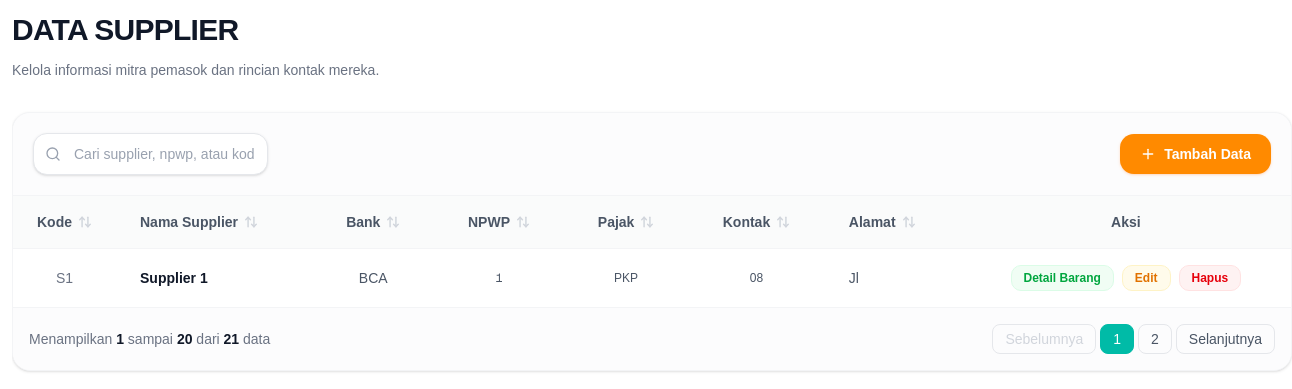
Test case: purchasing DataSupplier › steps back a page when the last row of the last page is deleted
Check: the text "Supplier 1" is shown, box [116,248,313,307]
Click the button "2" at (1155, 339), box [1138,324,1172,354]
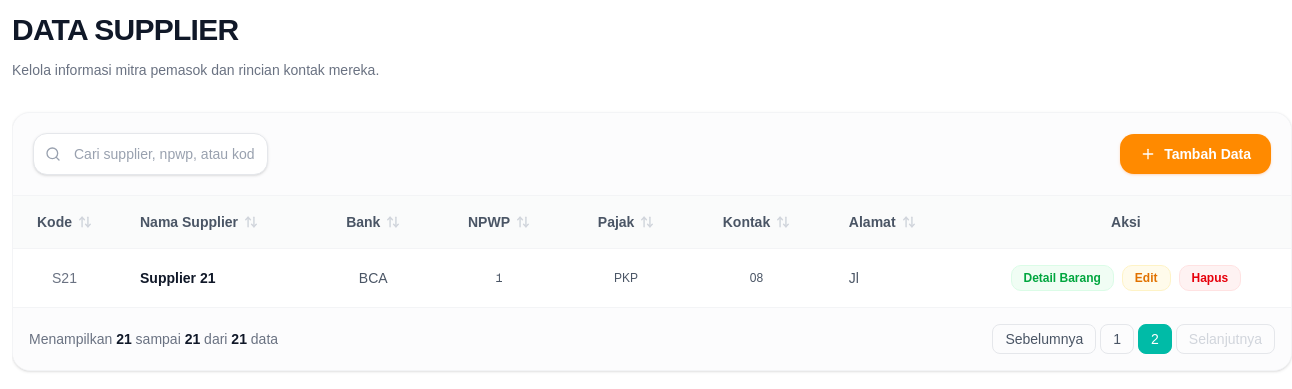
Check: the text "Supplier 21" is shown, box [116,248,313,307]
Click the button "Hapus" at (1210, 278), box [1178,265,1241,291]
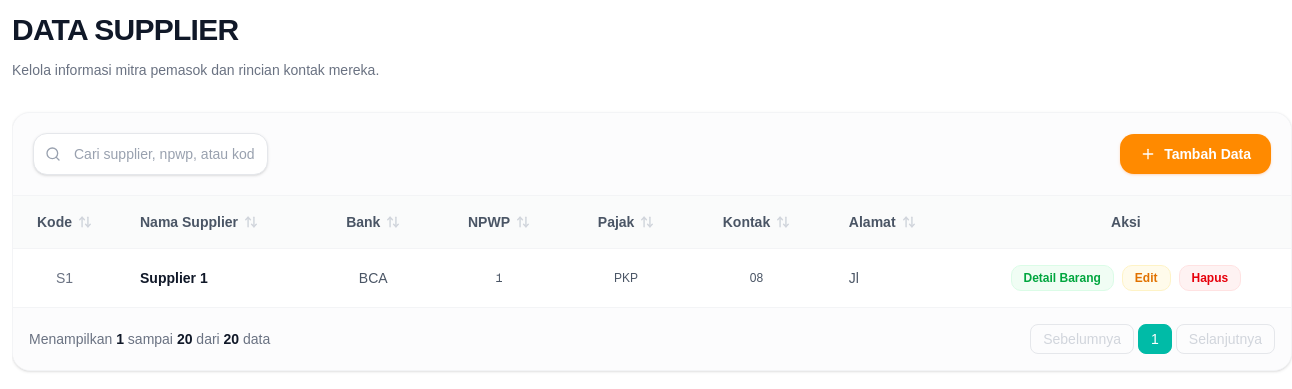
Check: the text "Supplier 1" is shown, box [116,248,313,307]
